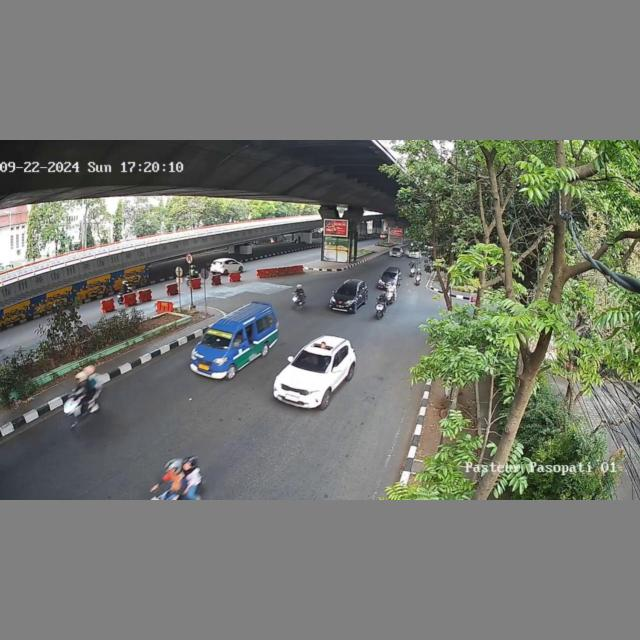windshield: (292, 347, 333, 374), (201, 329, 234, 349), (336, 283, 356, 296)
